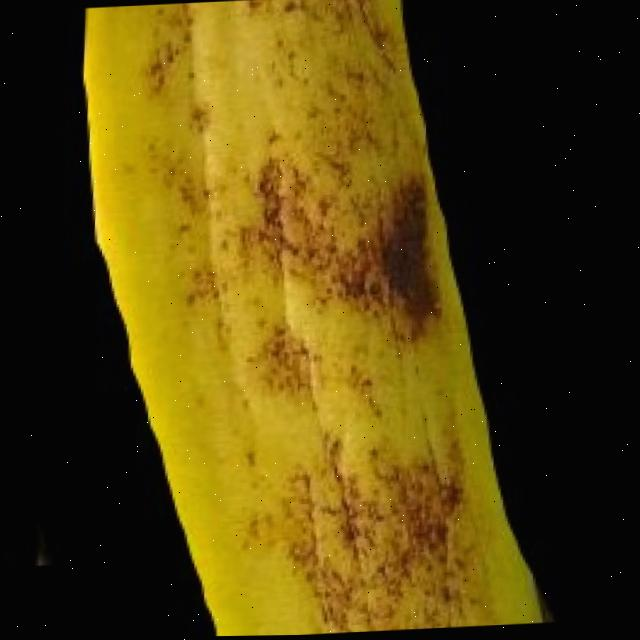mite: (138, 40, 182, 99)
sunburn: (249, 431, 481, 637)
